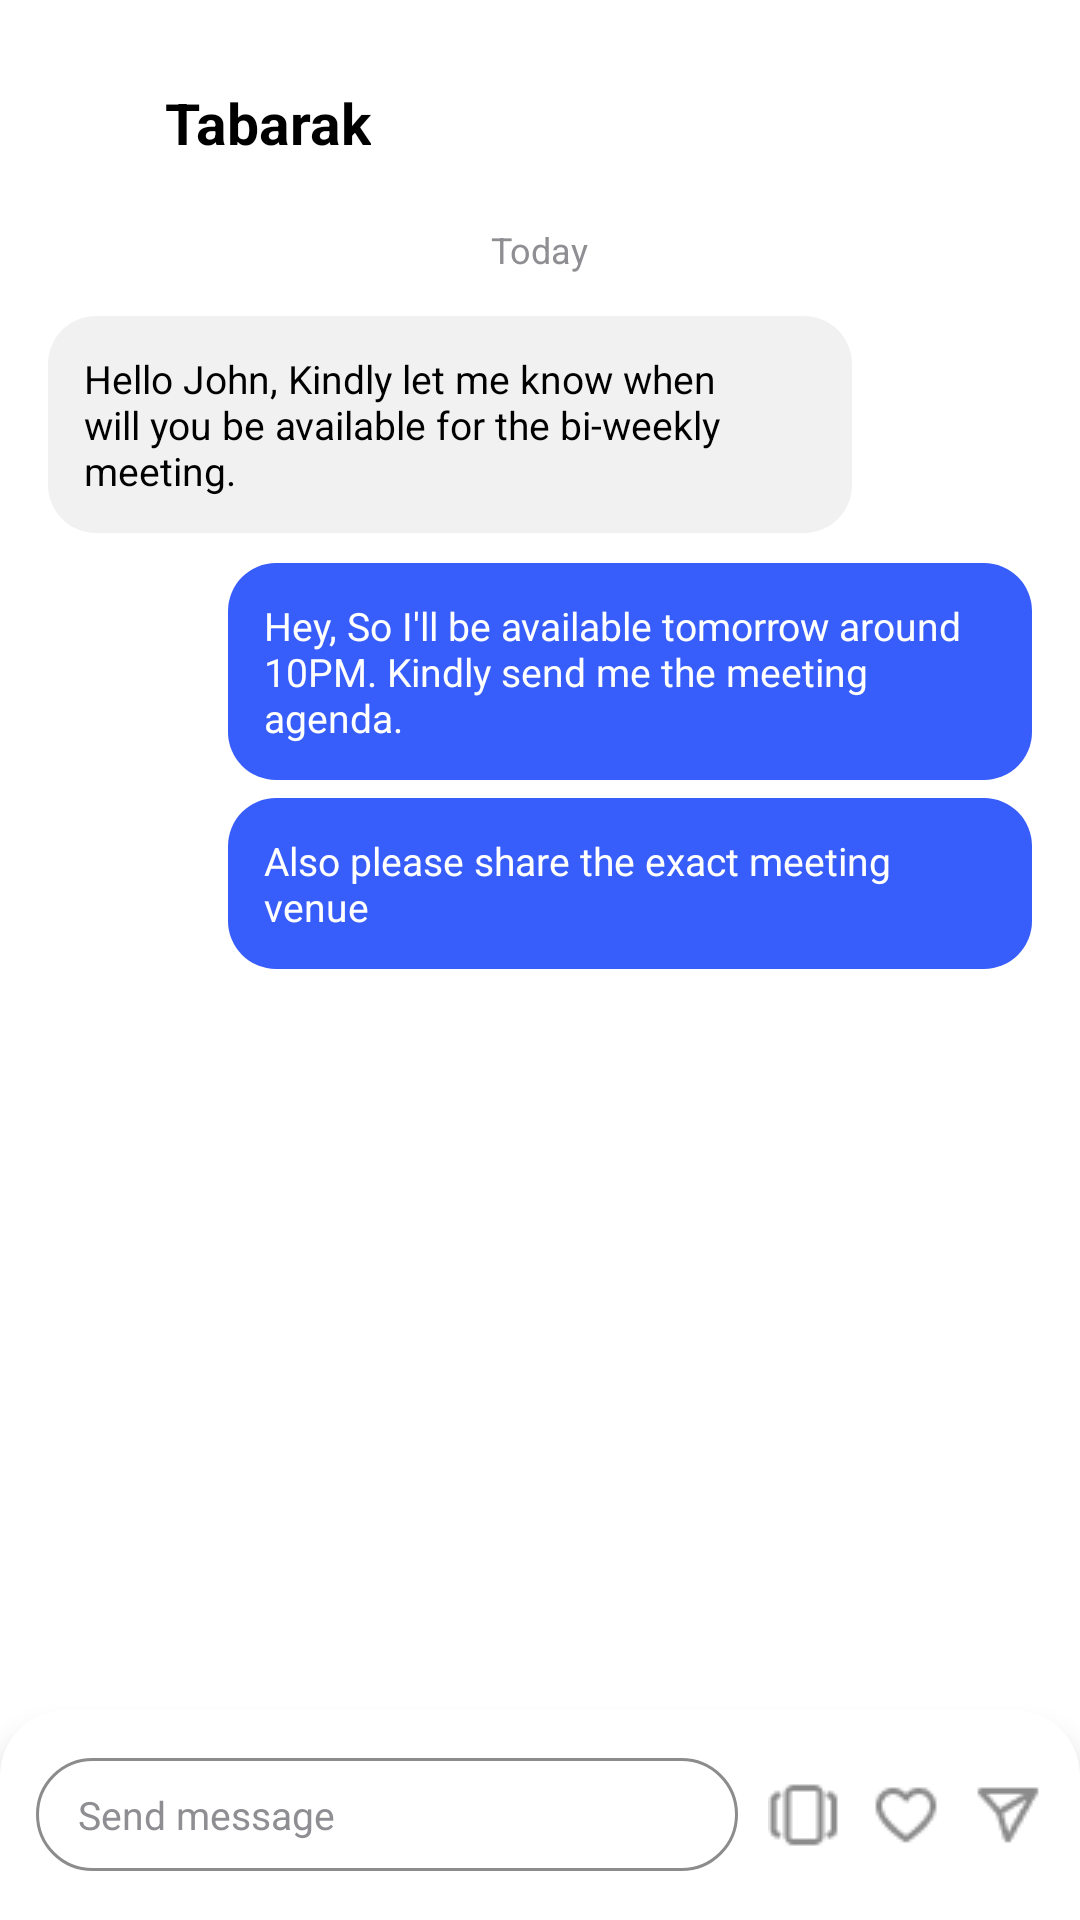

Screen size 1080*1920. Icon name, then its center in pixels as (x,y):
like: (906,1815)
send: (1008,1815)
